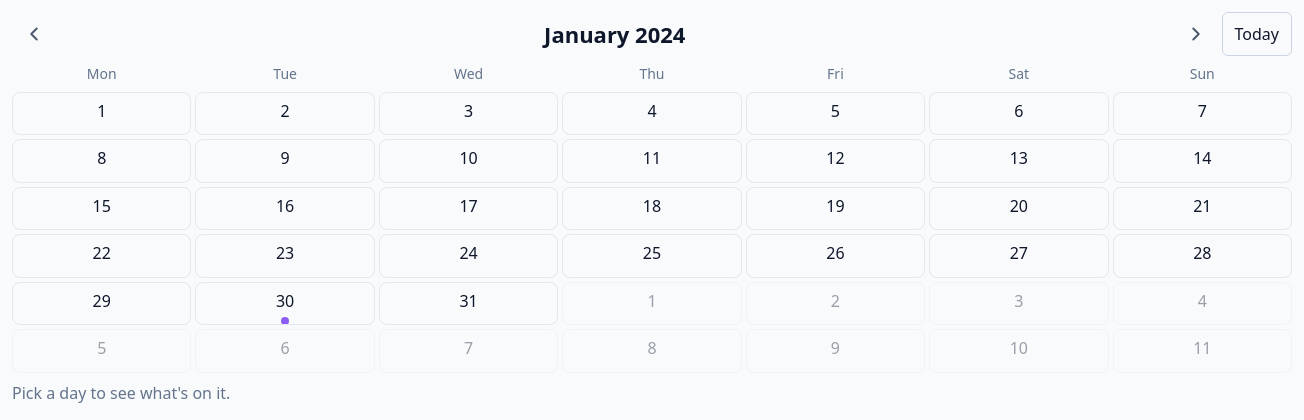
Test case: Calendar — navigation › crosses the year boundary in both directions
expect the heading "January 2024" is shown: met, box [544,19,685,49]
Step 1. Click the button named "Previous month" → [34, 34], box [12,12,56,56]
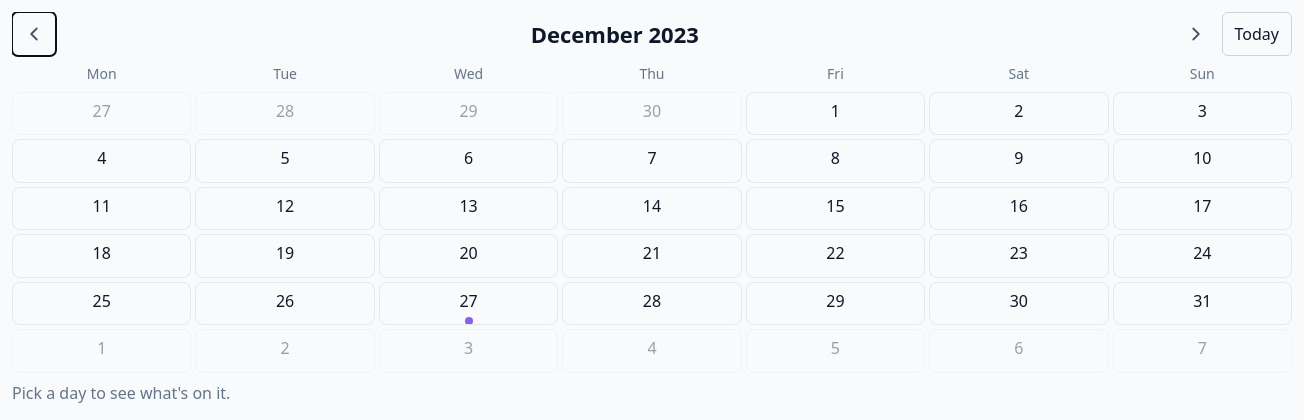
expect the heading "December 2023" is shown: met, box [531,19,699,49]
Step 2. Click the button named "Next month" → [1196, 34], box [1174,12,1218,56]
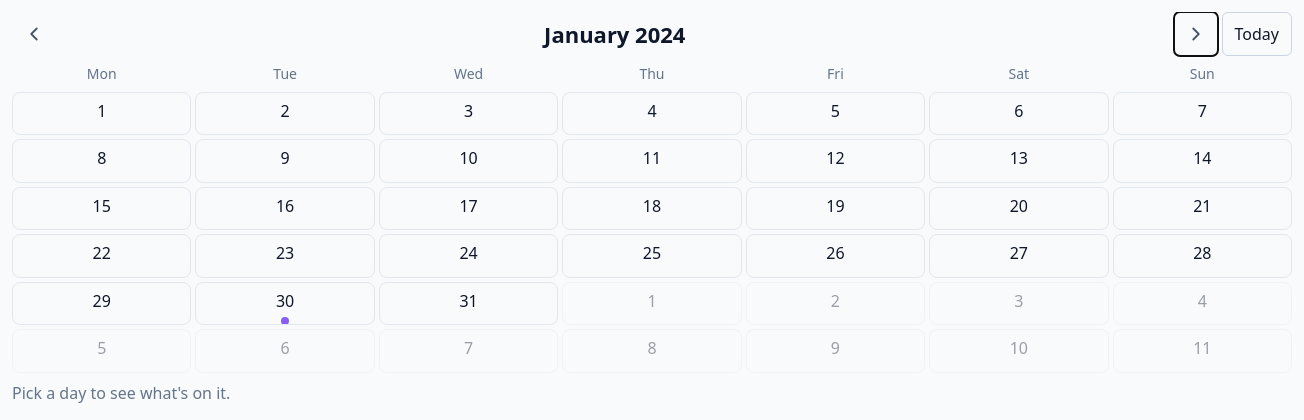
expect the heading "January 2024" is shown: met, box [544,19,685,49]
